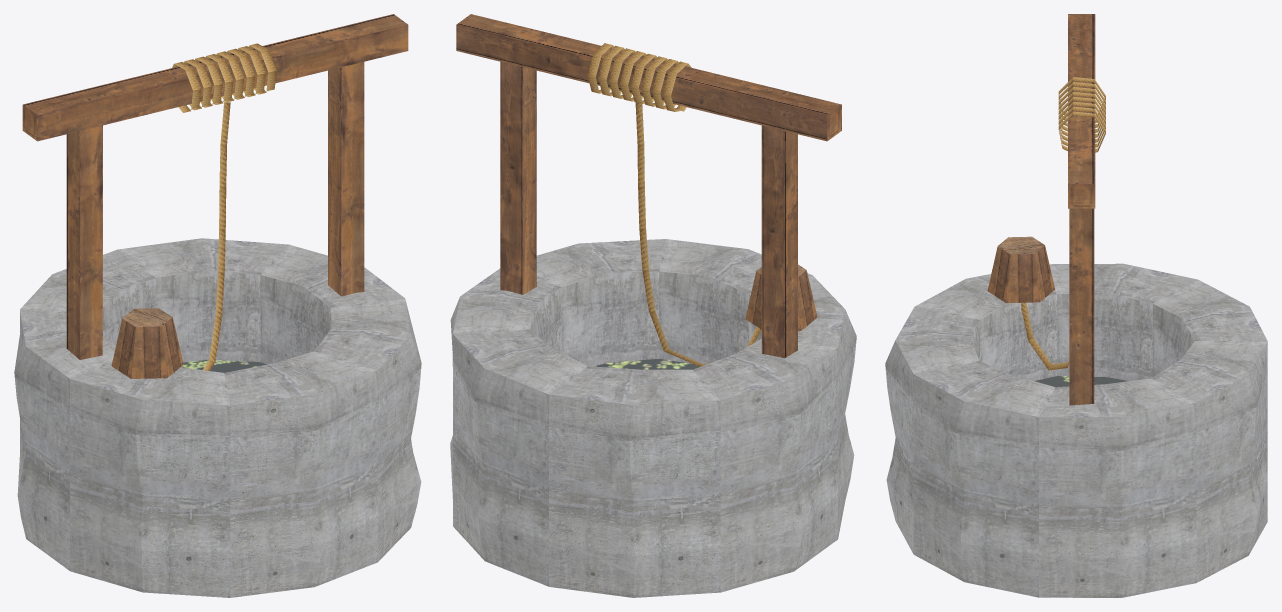
The model's file is well.glb.
3 renders of one model, left to right at view 1: azimuth 30°, elevation 25°; view 2: azimuth 150°, elevation 25°; view 3: azimuth 270°, elevation 25°, orthographic. The views are drawn at different scales.
Parts seen in each view (by area): view 1: Cube, Cube.001, Cube.002, Cylinder, Plane.001, Plane, Cylinder.001; view 2: Cube, Cube.001, Cube.002, Plane.001, Plane, Cylinder, Cylinder.001; view 3: Cube, Cube.001, Cube.002, Cylinder, Plane.001, Plane.
Boxes of the visible parts, x1,y1,x2,y2 form: Cube: (14,238,421,597); Cube.001: (66,62,364,359); Cube.002: (22,14,408,141); Cylinder: (111,308,183,378); Plane.001: (172,43,276,112); Plane: (203,102,230,370); Cylinder.001: (181,360,266,372); Cube: (450,239,856,597); Cube.001: (500,61,797,358); Cube.002: (456,14,841,141); Plane.001: (587,43,691,111); Plane: (635,102,761,366); Cylinder: (745,264,817,331); Cylinder.001: (594,359,699,369); Cube: (885,263,1267,597); Cube.001: (1069,208,1094,405); Cube.002: (1068,14,1095,208); Cylinder: (987,236,1054,302); Plane.001: (1058,77,1105,152); Plane: (1021,302,1069,370).
Size of the model in its own units: 598 by 703 by 569.
Materials: 6 (6 with a texture image).
